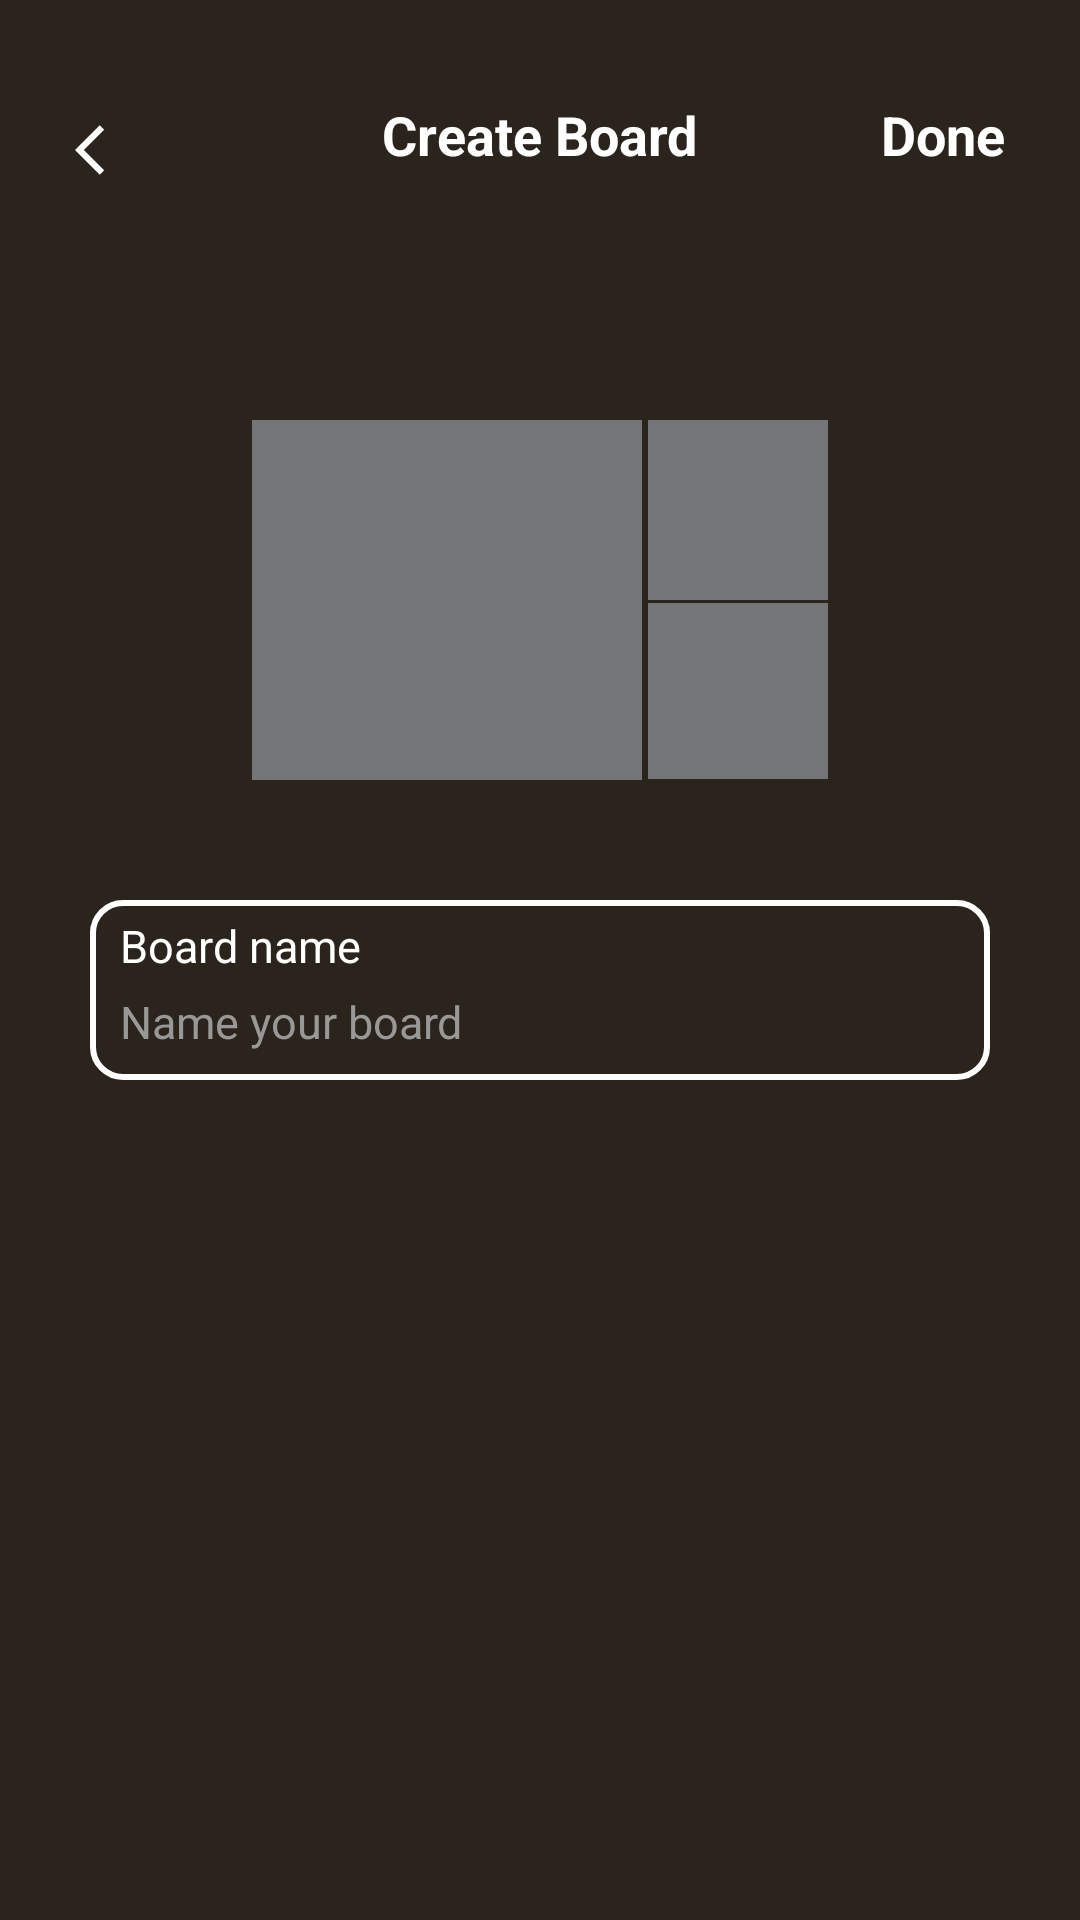

Icon bounding boxes for this 1080x1920 phone screenshot, format Rect(x1, y1, x2, y2):
back arrow: Rect(75, 125, 104, 175)
